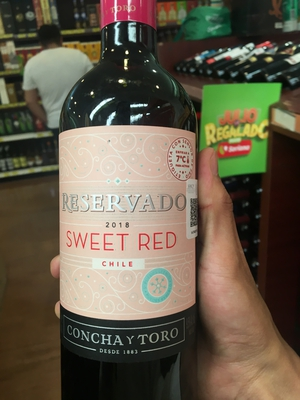reservado sweet red: (46, 19, 204, 392)
